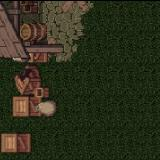Hide: (0, 120, 40, 160), (58, 0, 116, 13)
Obstacle: (0, 0, 96, 62), (2, 61, 65, 122)
